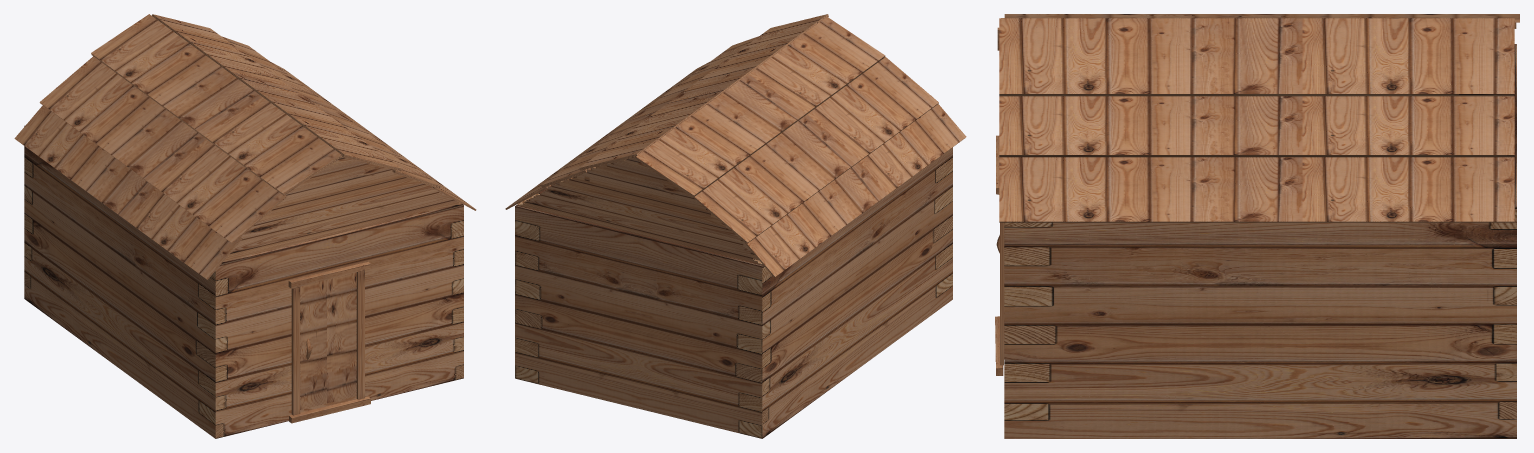
Rendered from Chalet.FBX.
3 views of the same model, side by side, from view 1: azimuth 30°, elevation 25°; view 2: azimuth 150°, elevation 25°; view 3: azimuth 270°, elevation 25° (orthographic). The views are drawn at different scales.
Visible parts, largest first — view 1: Object003; view 2: Object003; view 3: Object003.
Boxes of the visible parts, <box> form: Object003: <box>14,14,476,438</box>; Object003: <box>505,14,966,438</box>; Object003: <box>995,14,1519,438</box>.
Bounding box in the file's own units: 653 × 587 × 819.
8 materials, 8 textured.
